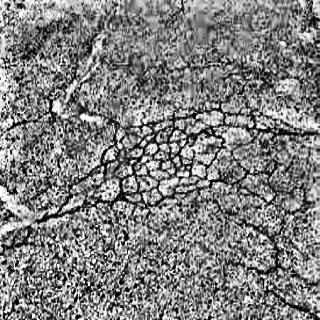alligator-crack: (98, 110, 235, 208)
crack: (189, 52, 274, 107), (28, 166, 88, 242), (242, 148, 307, 218), (224, 115, 320, 141), (2, 97, 56, 134), (31, 193, 82, 228), (160, 3, 175, 118), (272, 285, 319, 320), (237, 219, 281, 247), (247, 261, 284, 276)
